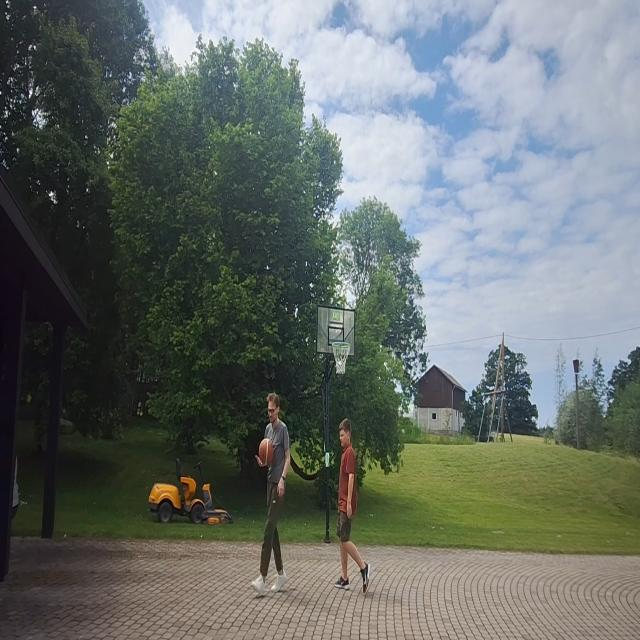ball: (258, 437, 274, 468)
basket: (331, 340, 351, 378)
player: (251, 388, 292, 593), (336, 417, 372, 600)
